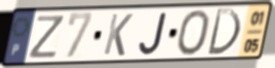7: (65, 10, 96, 62)
D: (205, 8, 243, 57)
J: (138, 11, 169, 57)
K: (101, 12, 135, 58)
O: (174, 8, 211, 57)
Z: (26, 14, 67, 60)
